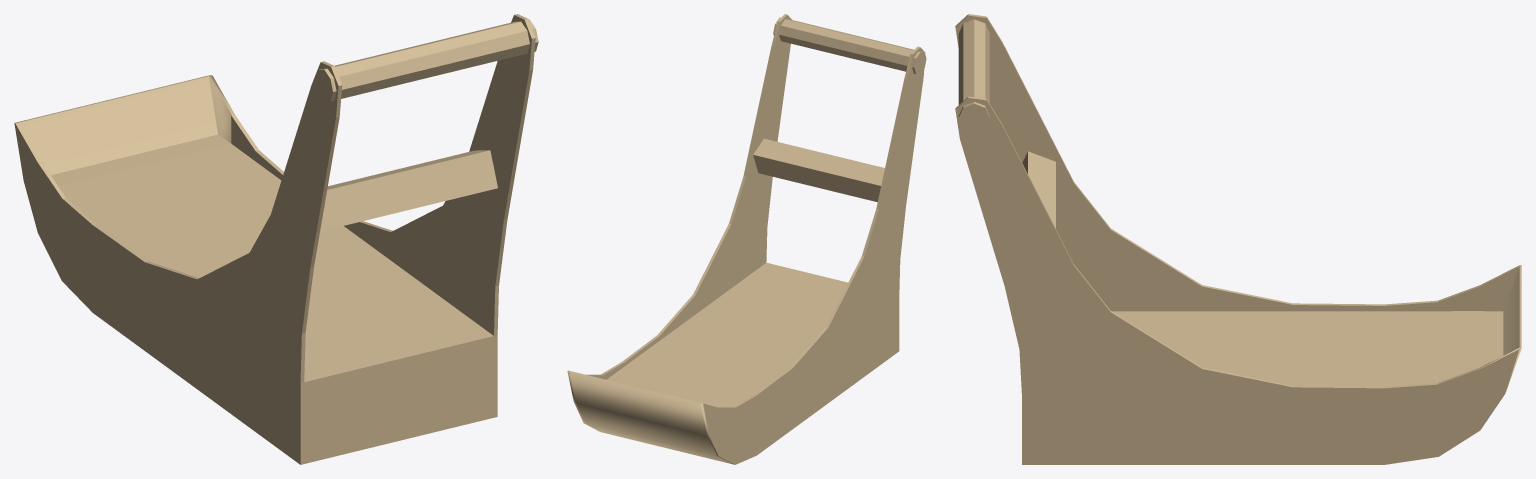
File: half_leg.obj
The picture shows the model from 3 angles, left to right: view 1: azimuth 30°, elevation 25°; view 2: azimuth 150°, elevation 25°; view 3: azimuth 270°, elevation 25°; orthographic projection. The views are drawn at different scales.
Parts seen in each view (by area): view 1: half_leg_Cube.010; view 2: half_leg_Cube.010; view 3: half_leg_Cube.010.
Boxes of the visible parts, left/top/right/bottom form: half_leg_Cube.010: left=14, top=14, right=538, bottom=464; half_leg_Cube.010: left=567, top=14, right=926, bottom=464; half_leg_Cube.010: left=955, top=14, right=1521, bottom=464.
Size of the model in its own units: 0.313 by 0.6117 by 0.8552.
